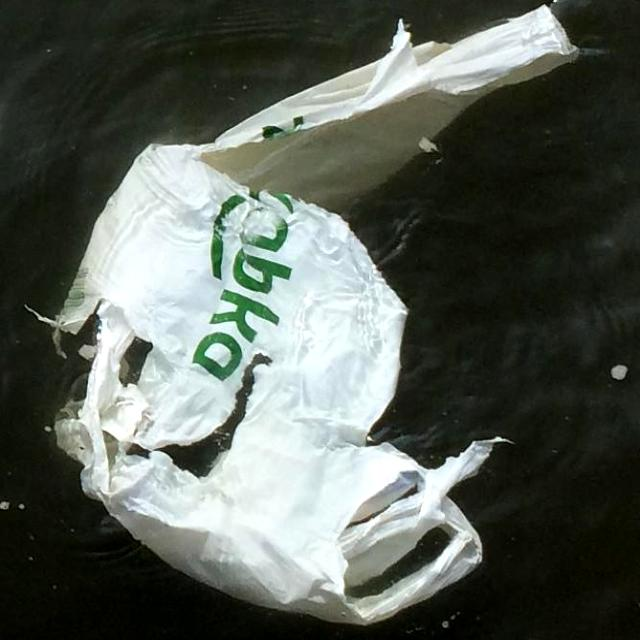Trash: (35, 7, 576, 624)
